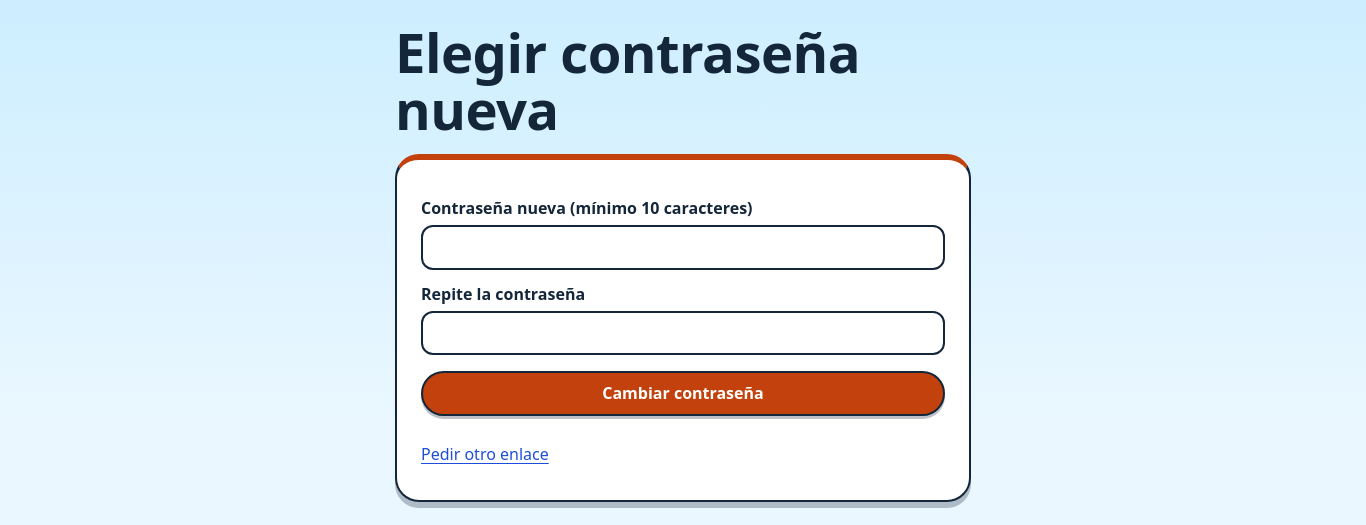
Test: ResetPasswordView › sends the token from the link with the new password and offers the login
Type "Nueva-Clave-77x" into the password field labelled "Contraseña nueva (mínimo 10 caracteres)" at (683, 247), box [421, 225, 945, 270]
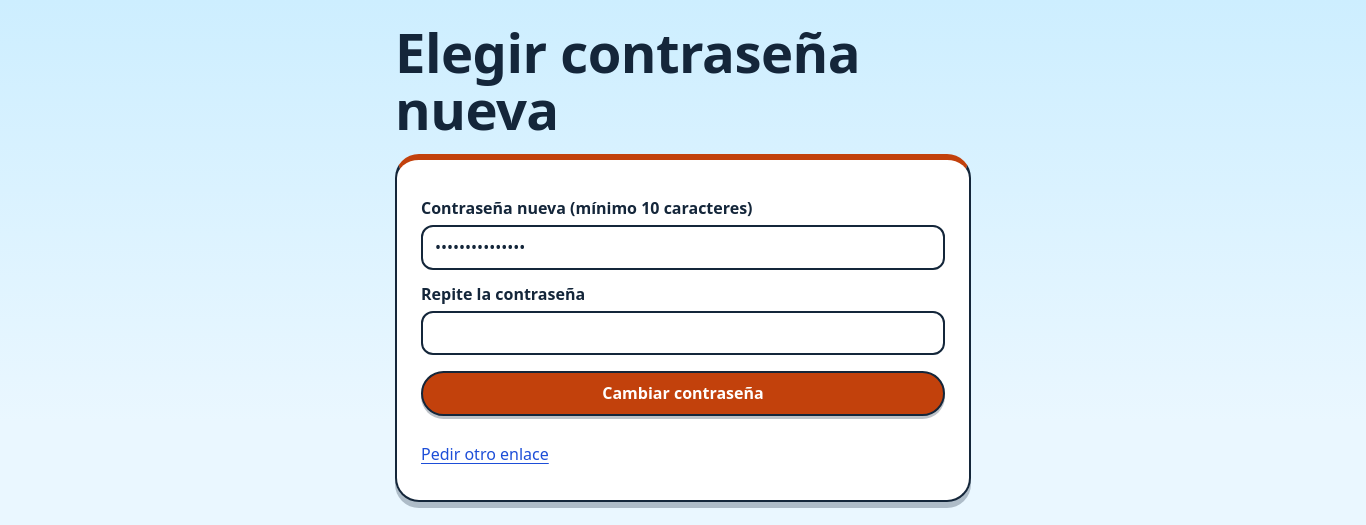
Type "Nueva-Clave-77x" into the password field labelled "Repite la contraseña" at (683, 333), box [421, 311, 945, 355]
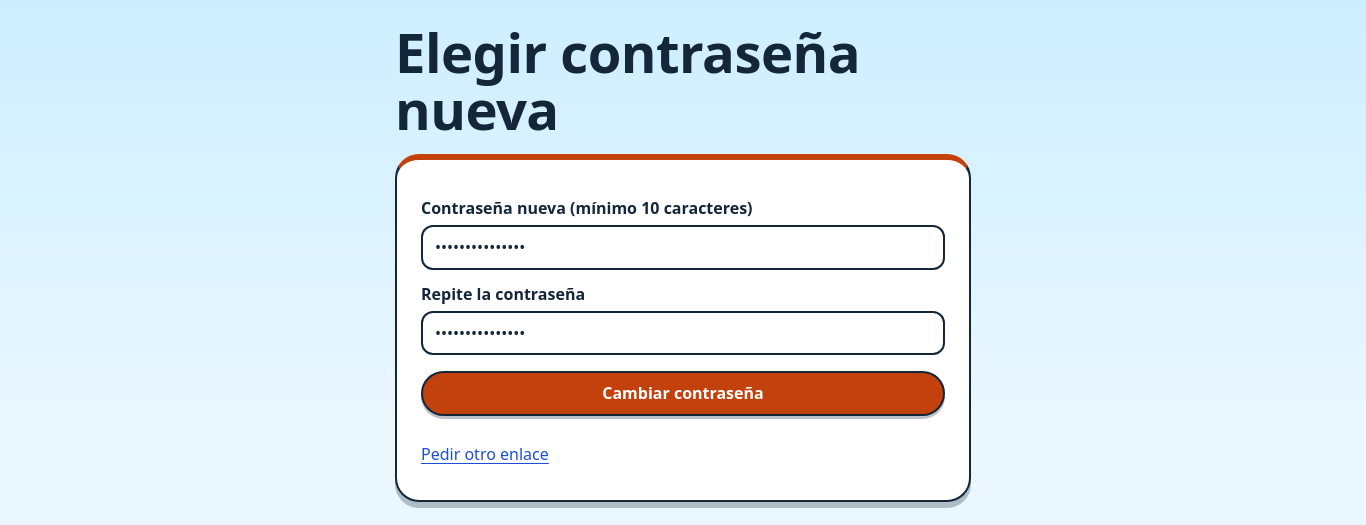
Submit the form, box [395, 154, 971, 502]
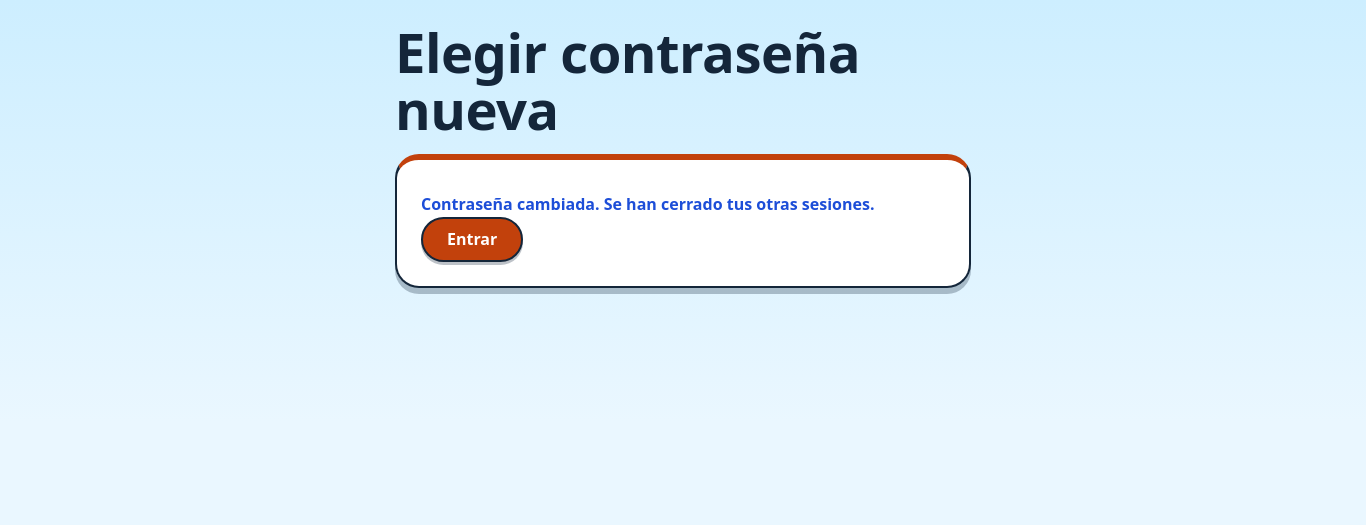
Expected: the link to "/login" is shown, [421, 217, 523, 262]
